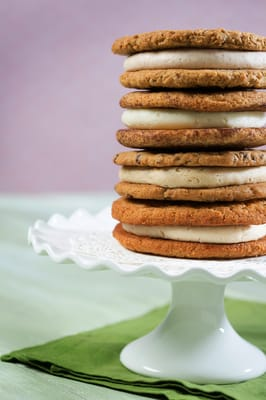burger: (110, 165, 265, 259), (111, 196, 266, 259), (109, 28, 266, 55), (115, 126, 266, 151), (117, 107, 266, 130), (118, 90, 266, 113), (119, 69, 266, 91), (113, 148, 266, 169)
